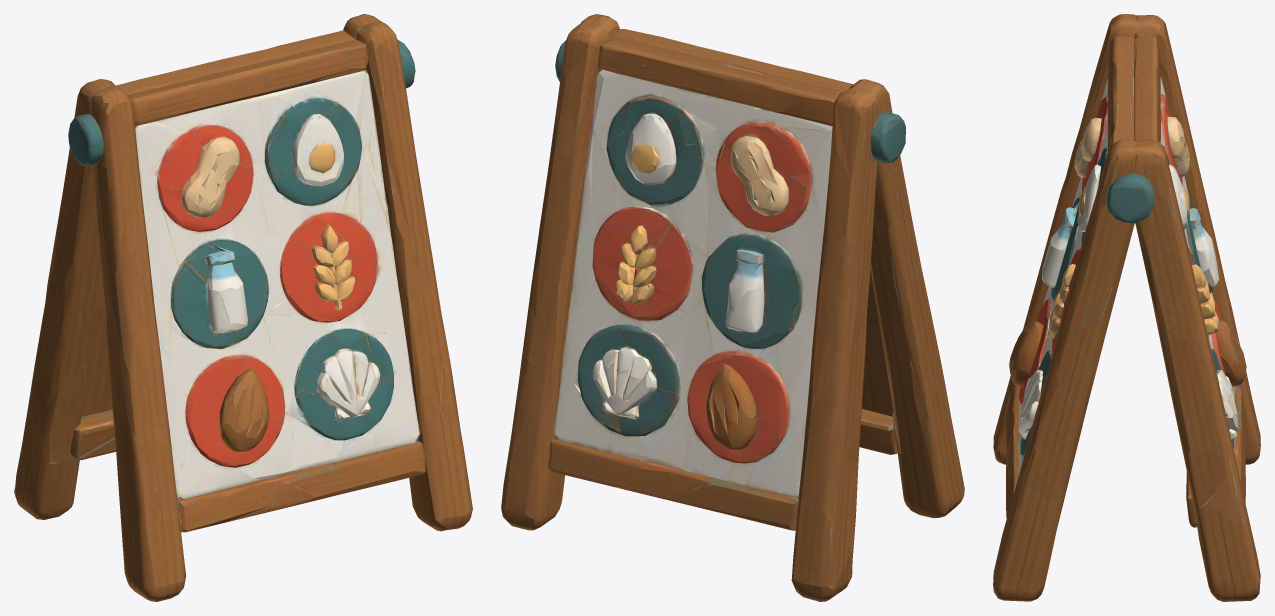
Rendered from menuBoard.glb.
3 renders of one model, left to right at view 1: azimuth 30°, elevation 25°; view 2: azimuth 150°, elevation 25°; view 3: azimuth 270°, elevation 25°, orthographic. The views are drawn at different scales.
Visible parts, largest first — view 1: Mesh_0; view 2: Mesh_0; view 3: Mesh_0.
Part boxes in pixels (x1,y1,x2,y2): Mesh_0: (14,14,472,601); Mesh_0: (501,14,964,601); Mesh_0: (993,14,1260,601).
Bounding box in the file's own units: 0.8189 × 1.1 × 0.5929.
Materials: 1 (1 with a texture image).
